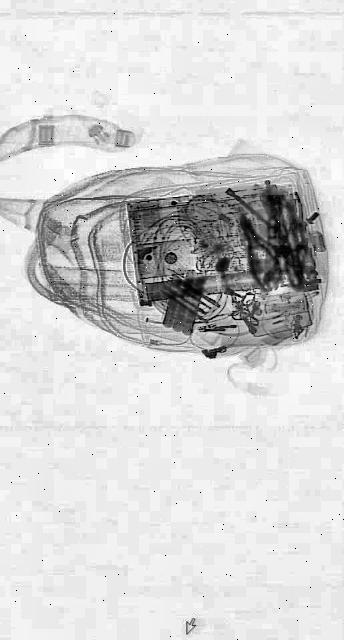Pliers: (232, 203, 286, 305)
